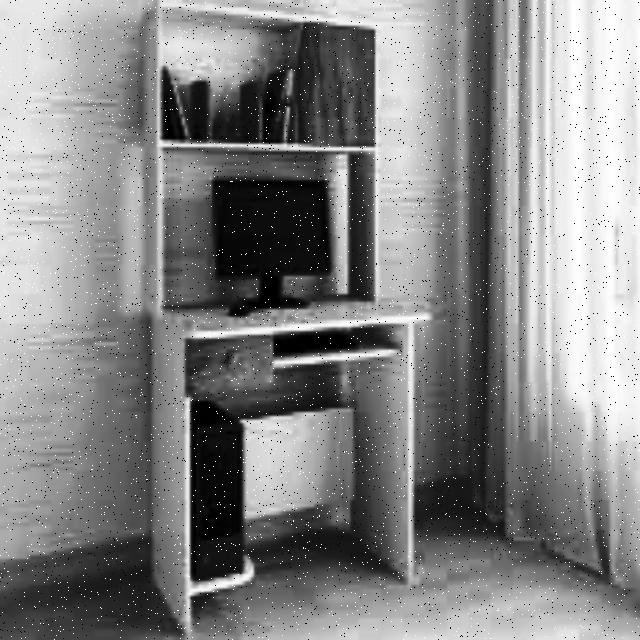table: (149, 294, 436, 633)
